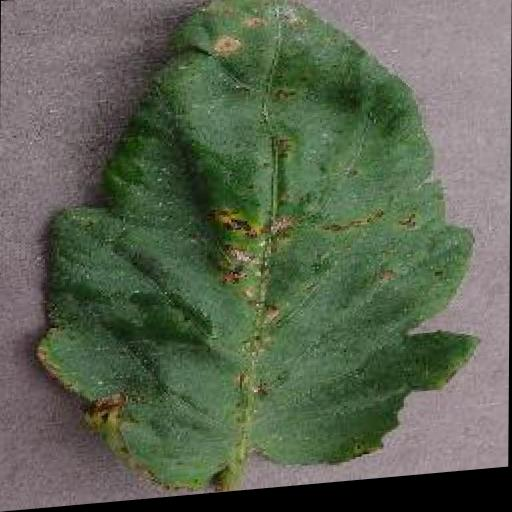Bacterial Spot: (27, 0, 484, 510)
